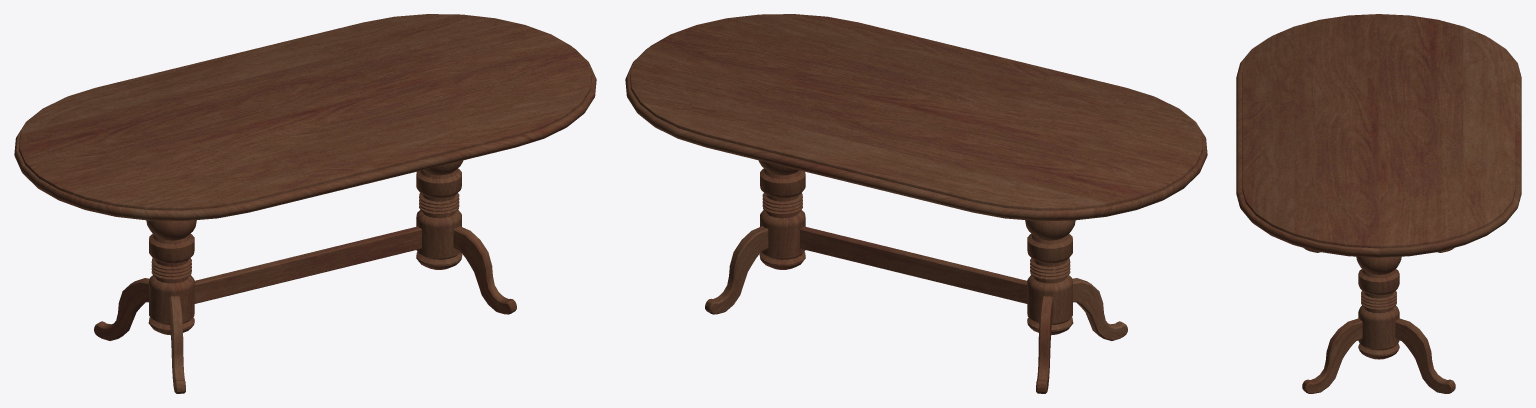
The model's file is Mesa2.fbx.
3 views of the same model, side by side, from view 1: azimuth 30°, elevation 25°; view 2: azimuth 150°, elevation 25°; view 3: azimuth 270°, elevation 25° (orthographic). The views are drawn at different scales.
Visible parts, largest first — view 1: Dining table; view 2: Dining table; view 3: Dining table.
Boxes of the visible parts, x1,y1,x2,y2 form: Dining table: (14, 14, 596, 393); Dining table: (625, 14, 1207, 393); Dining table: (1236, 14, 1521, 393).
Bounding box in the file's own units: 211 × 79.96 × 108.
1 material, 1 textured.
